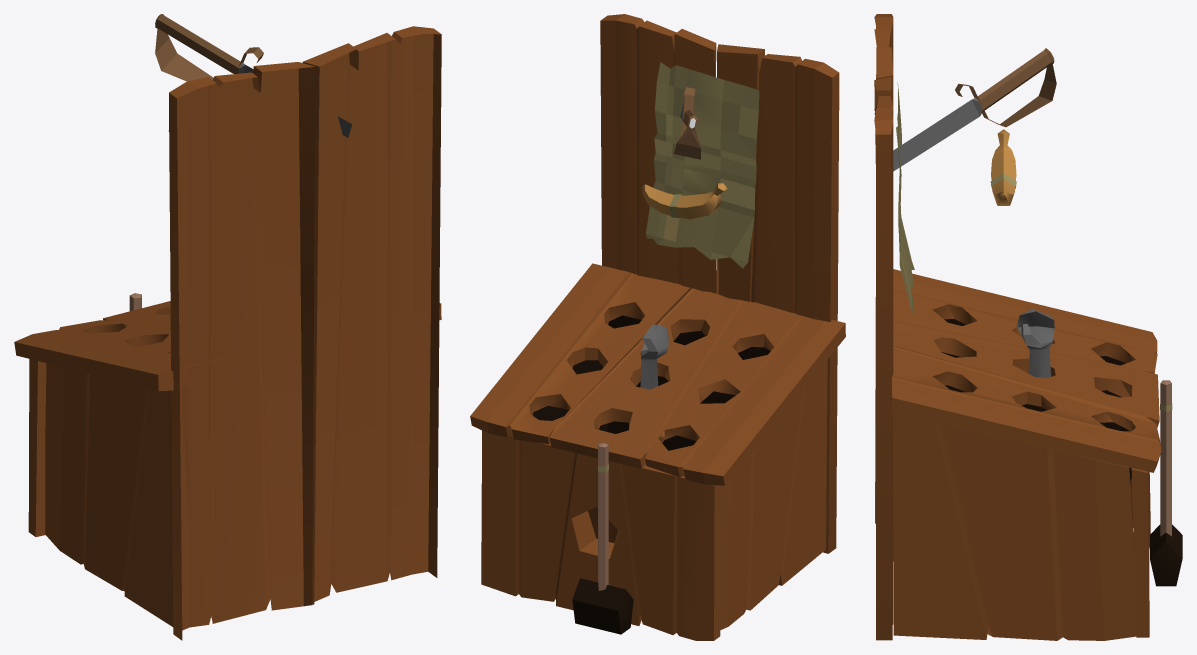
File: TD_Model_WhackAMonkey.fbx
The picture shows the model from 3 angles, left to right: view 1: azimuth 30°, elevation 25°; view 2: azimuth 150°, elevation 25°; view 3: azimuth 270°, elevation 25°; orthographic projection. The views are drawn at different scales.
Visible parts, largest first — view 1: BackPplanks, RightPlanks, TopPlanks, Sword, FrontPlanks; view 2: TopPlanks, BackPplanks, FrontPlanks, RightPlanks, Map1, InsideBox, HammerHead, Banana, Hammer, Monkeyhand, Sword; view 3: LeftPlanks, TopPlanks, BackPplanks, Sword, FrontPlanks, Monkeyhand, Hammer, HammerHead, Banana, Map1, InsideBox.
Part boxes in pixels (bbox=[...]): BackPplanks: bbox=[169, 26, 441, 640]; RightPlanks: bbox=[45, 363, 189, 626]; TopPlanks: bbox=[14, 301, 441, 391]; Sword: bbox=[155, 14, 352, 137]; FrontPlanks: bbox=[28, 359, 46, 536]; TopPlanks: bbox=[470, 263, 845, 485]; BackPplanks: bbox=[600, 14, 839, 553]; FrontPlanks: bbox=[481, 430, 721, 640]; RightPlanks: bbox=[720, 360, 827, 629]; Map1: bbox=[646, 62, 759, 268]; InsideBox: bbox=[533, 315, 770, 450]; HammerHead: bbox=[572, 578, 633, 634]; Banana: bbox=[642, 183, 727, 219]; Hammer: bbox=[598, 443, 608, 590]; Monkeyhand: bbox=[640, 324, 668, 389]; Sword: bbox=[674, 87, 700, 159]; LeftPlanks: bbox=[893, 413, 1136, 640]; TopPlanks: bbox=[891, 269, 1161, 472]; BackPplanks: bbox=[874, 14, 893, 640]; Sword: bbox=[893, 48, 1056, 171]; FrontPlanks: bbox=[1130, 468, 1150, 637]; Monkeyhand: bbox=[1017, 309, 1054, 404]; Hammer: bbox=[1160, 380, 1171, 536]; HammerHead: bbox=[1150, 524, 1182, 586]; Banana: bbox=[991, 129, 1016, 205]; Map1: bbox=[896, 83, 914, 313]; InsideBox: bbox=[941, 319, 1131, 482].
Bounding box in the file's own units: 2.75 × 5.01 × 2.72.
